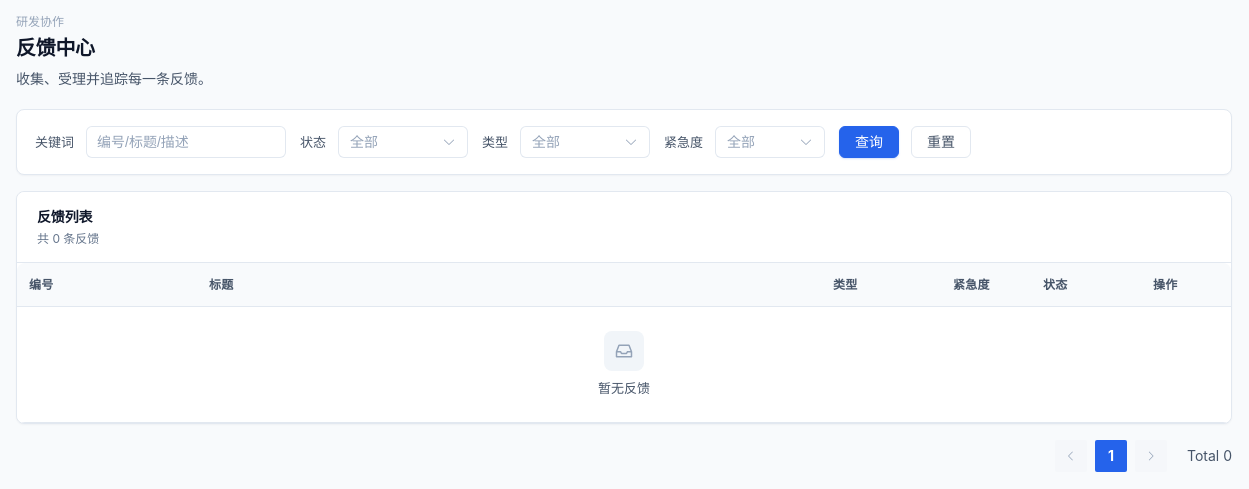
Test: Feedback list › ignores a stale success after the latest query succeeds
Step 1. Click the button "查询" → (869, 142), box [839,126,899,158]
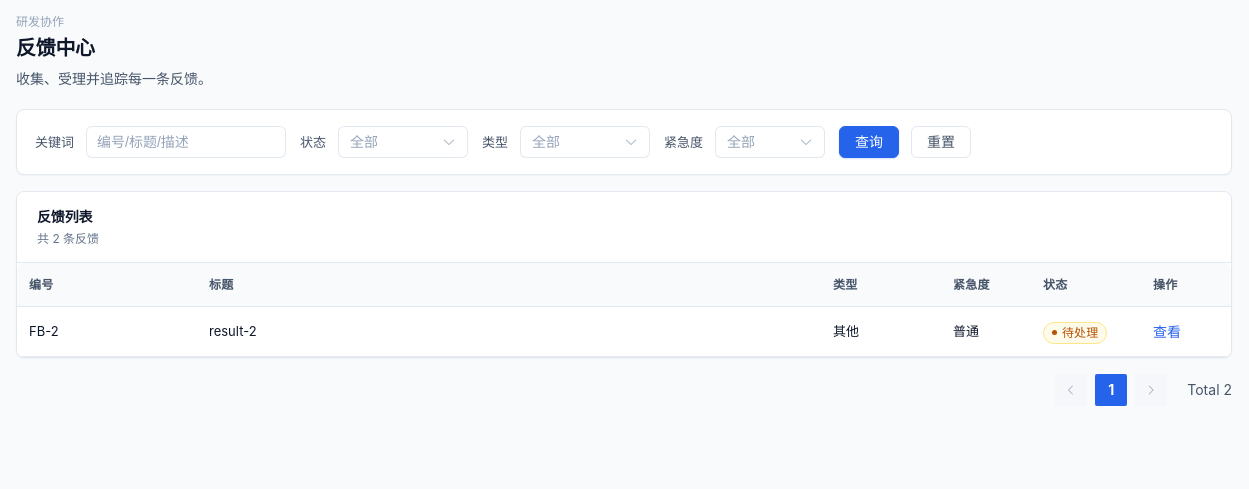
expect the text "共 2" is shown: met, box [37,231,99,246]
